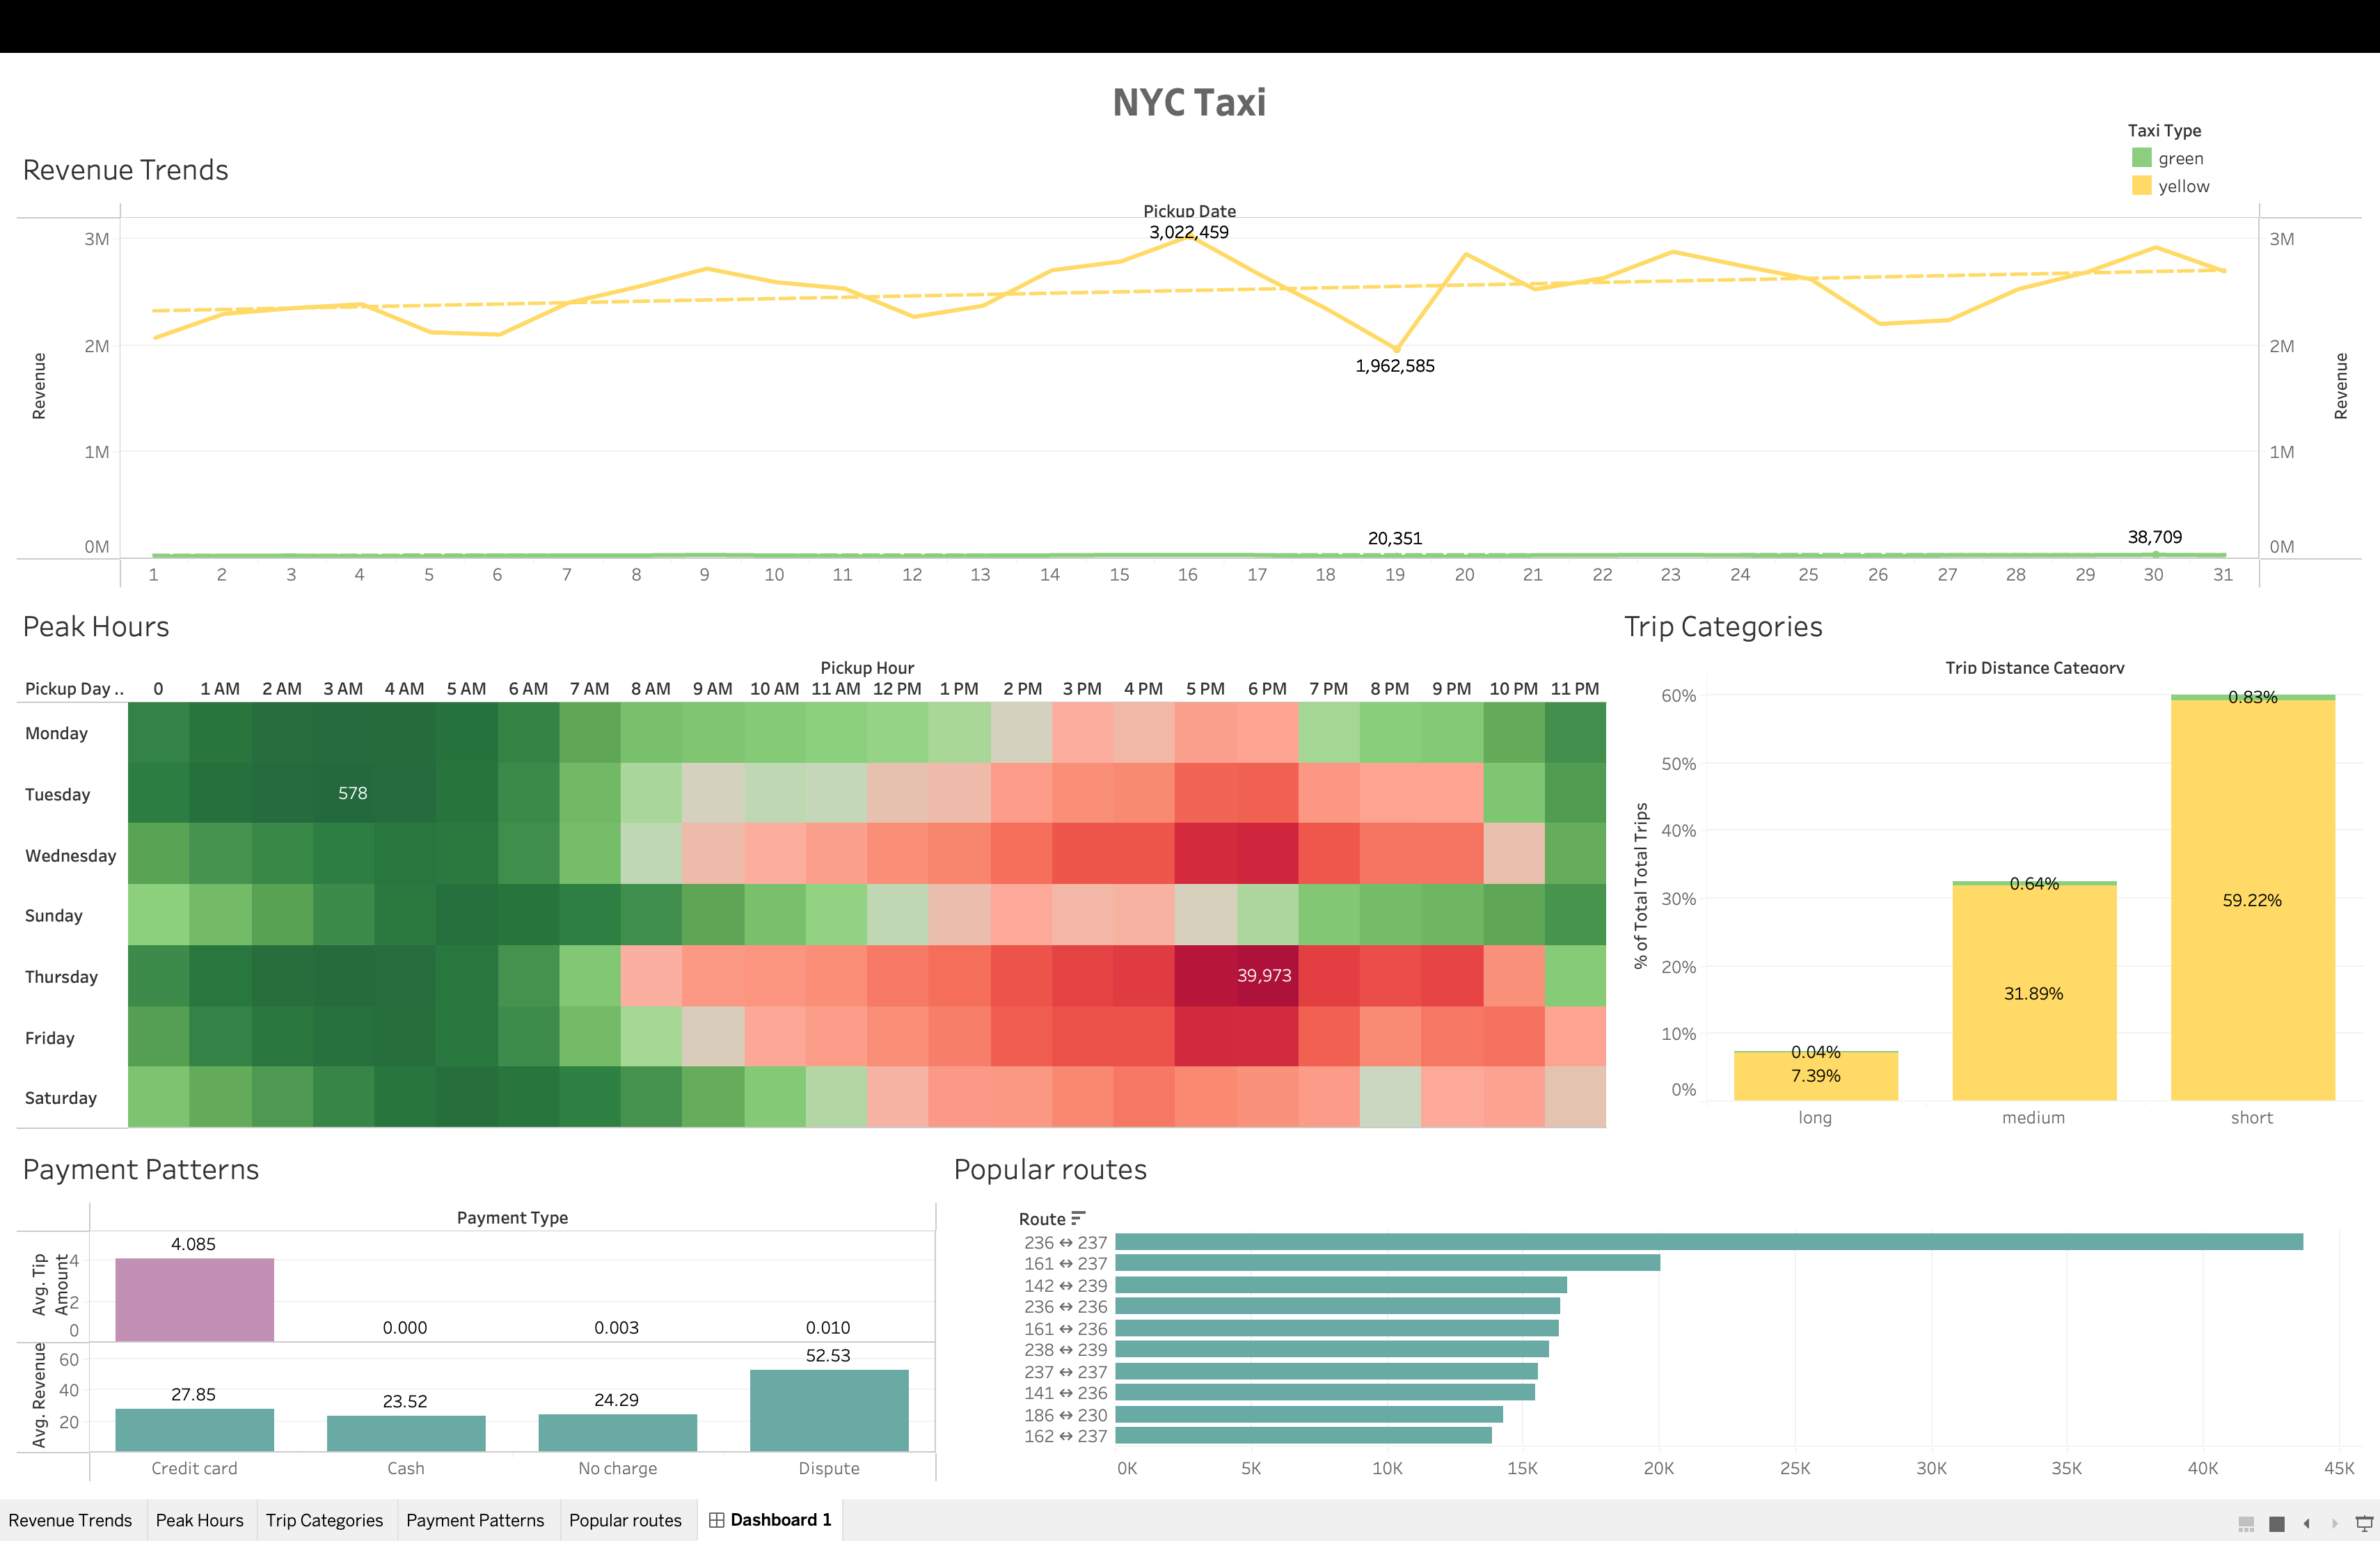

Layout of this report page (visuals, bound fields, positions):
{"tool":"tableau","page":{"name":"Overview","canvas":[1000,1000],"units":"permille","ordinal":1},"visuals":[{"type":"text","box":[5.3,8.2,989.3,51.1]},{"type":"legend","title":"Revenue Trends","param":"[federated.0id62w21r89pm219b7uvi170qz47].[none:TAXI_TYPE:nk]","box":[893.9,45,93.4,59.4]},{"type":"worksheet","title":"Revenue Trends","mark":"Automatic","rows":["REVENUE","REVENUE"],"cols":["PICKUP_DATE","PICKUP_DATE"],"box":[5.3,59.3,989.3,315.5]},{"type":"worksheet","title":"Peak Hours","mark":"Square","rows":["PICKUP_DAY_OF_WEEK"],"cols":["PICKUP_HOUR"],"box":[5.3,374.8,672.4,374.4]},{"type":"worksheet","title":"Trip Categories","mark":"Automatic","rows":["Calculation_4898579408273113088"],"cols":["TRIP_DISTANCE_CATEGORY"],"box":[677.8,374.8,316.9,374.4]},{"type":"worksheet","title":"Payment Patterns","mark":"Automatic","rows":["TIP_AMOUNT","REVENUE"],"cols":["PAYMENT_TYPE"],"box":[5.3,749.2,390.9,242.6]},{"type":"worksheet","title":"Popular routes","mark":"Automatic","rows":["Calculation_4898579408340074497"],"cols":["Calculation_4898579408273113088"],"box":[396.2,749.2,598.4,242.6]}]}

Visuals, with their boxes on the dashboard's canvas, which has no fixed pixel size, in thousandths of its width and height (x1, y1, x2, y2). These are canvas units, not pixel positions in the 2380x1541 screenshot, which may show the page scaled, cropped or inside an application window:
text: detection(5, 8, 995, 59)
"Revenue Trends" legend: detection(894, 45, 987, 104)
"Revenue Trends" worksheet: detection(5, 59, 995, 375)
"Peak Hours" worksheet (Square marks): detection(5, 375, 678, 749)
"Trip Categories" worksheet: detection(678, 375, 995, 749)
"Payment Patterns" worksheet: detection(5, 749, 396, 992)
"Popular routes" worksheet: detection(396, 749, 995, 992)
